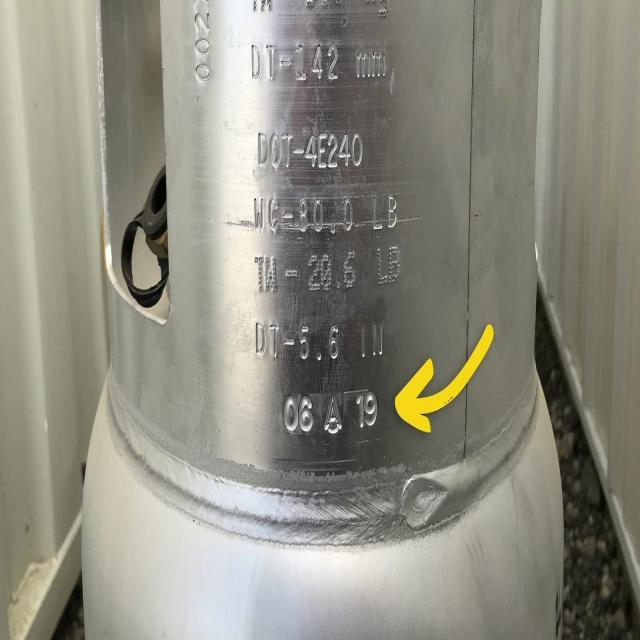ocr: (237, 2, 401, 435)
